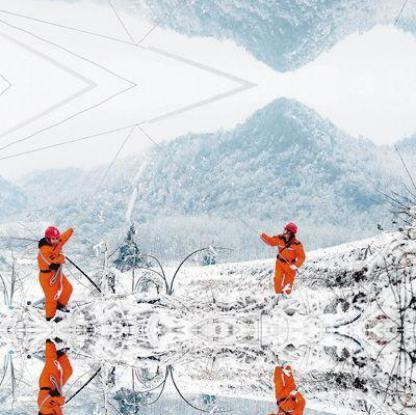helmet: (39, 225, 63, 245), (279, 216, 301, 237)
